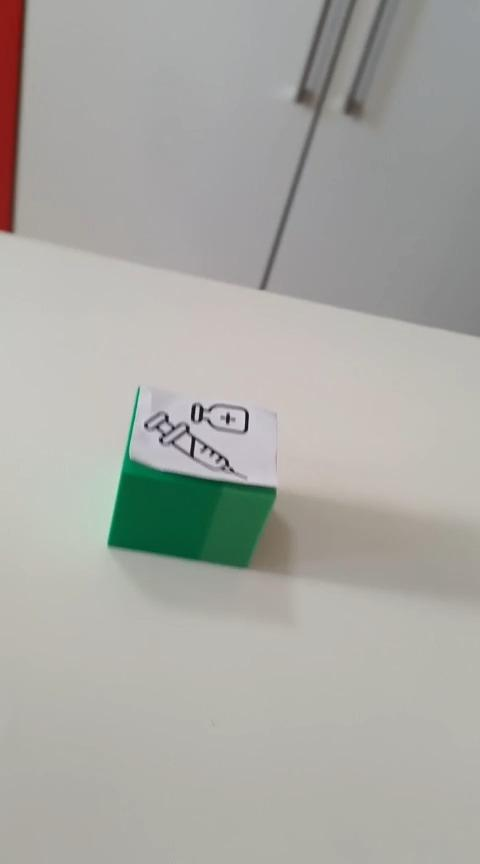antiseptic cream: (106, 383, 279, 569)
